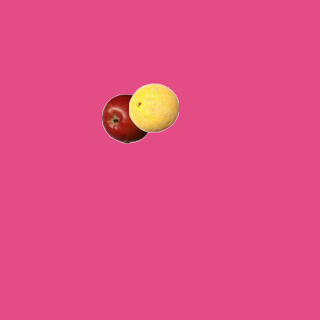Apple Braeburn: (101, 93, 151, 143)
Cantaloupe 1: (128, 82, 178, 132)
